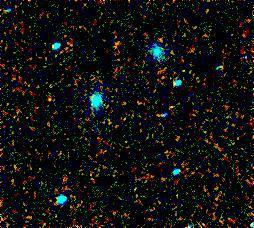star: (50, 166, 80, 196)
